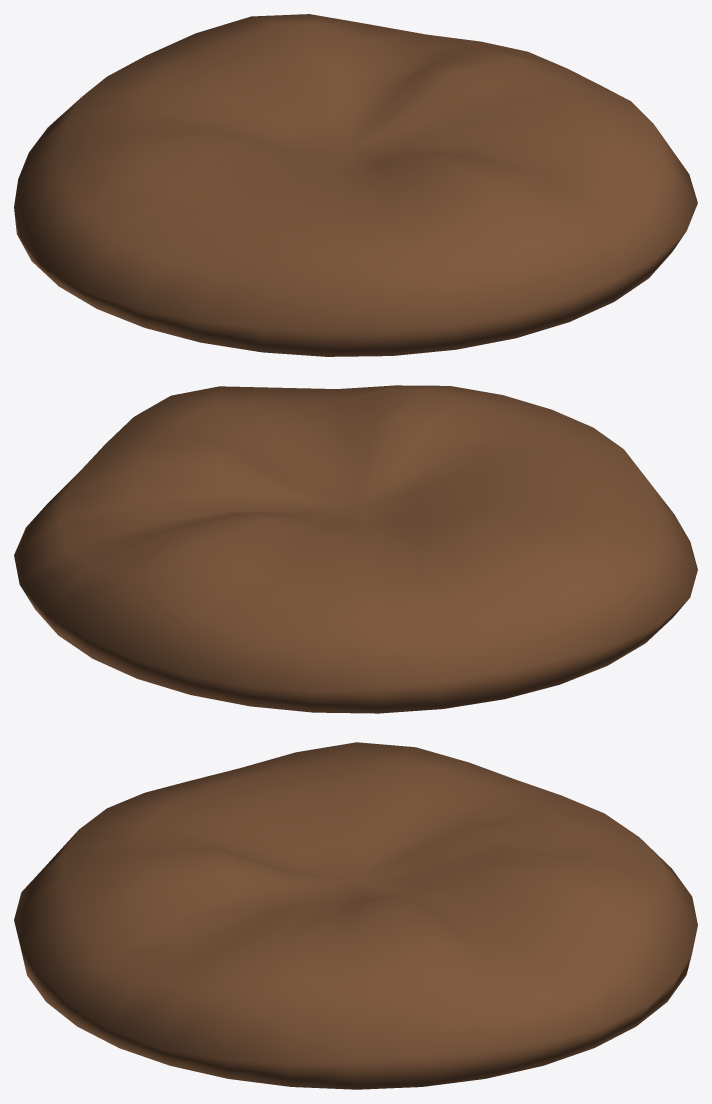
Rendered from mound.glb.
3 views of the same model, one above another, from view 1: azimuth 30°, elevation 25°; view 2: azimuth 150°, elevation 25°; view 3: azimuth 270°, elevation 25° (orthographic).
Parts seen in each view (by area): view 1: Soil_Mound; view 2: Soil_Mound; view 3: Soil_Mound.
Part boxes in pixels (left/top/right/bottom): Soil_Mound: left=14, top=14, right=697, bottom=356; Soil_Mound: left=14, top=385, right=697, bottom=713; Soil_Mound: left=14, top=742, right=697, bottom=1089.
Bounding box in the file's own units: 2.39 × 0.3979 × 2.36.
